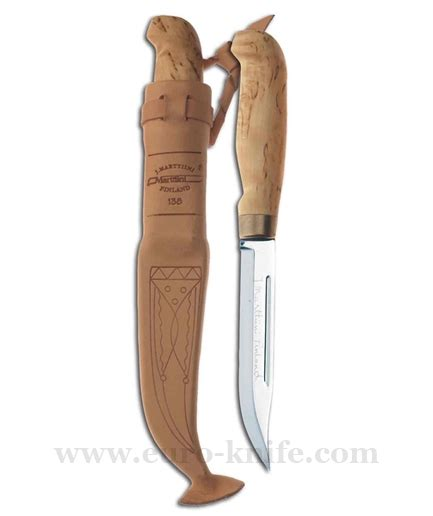knife: (231, 23, 288, 472)
